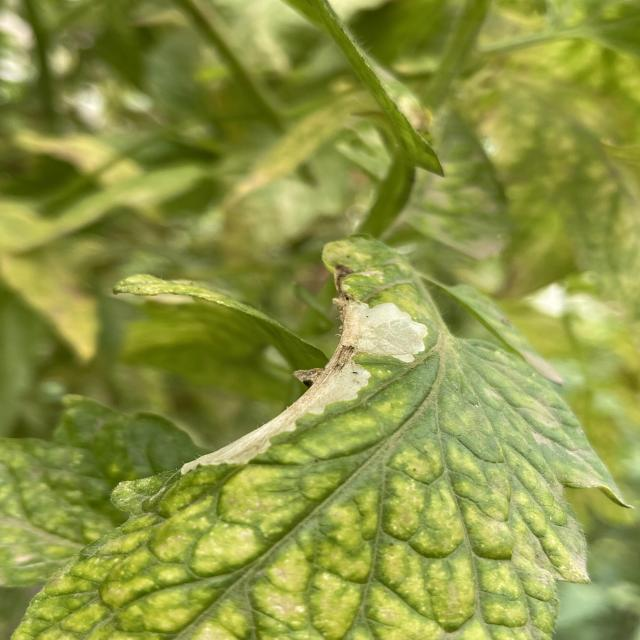Tuta absoluta: (180, 269, 437, 537)
